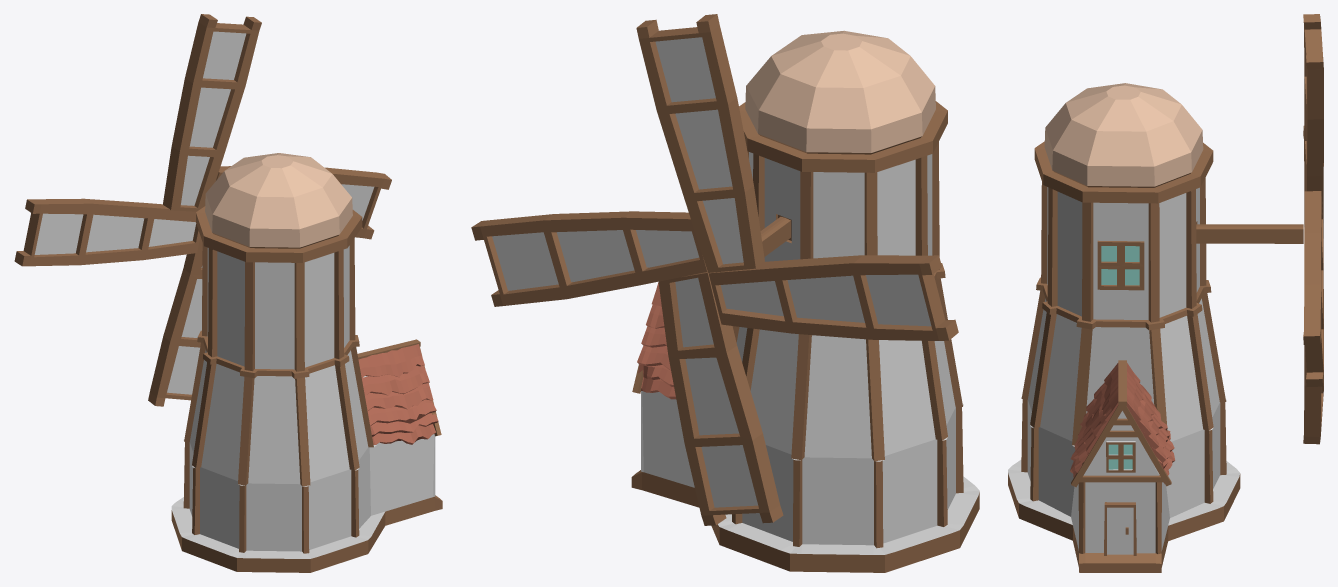
The picture shows the model from 3 angles, left to right: view 1: azimuth 30°, elevation 25°; view 2: azimuth 150°, elevation 25°; view 3: azimuth 270°, elevation 25°; orthographic projection. The views are drawn at different scales.
Visible parts, largest first — view 1: meln; view 2: meln; view 3: meln.
Part boxes in pixels (box(x1,y1,x2,y2)): meln: box(14, 14, 442, 572); meln: box(471, 14, 979, 572); meln: box(1008, 14, 1323, 572).
Bounding box in the file's own units: 956 × 1102 × 646.
